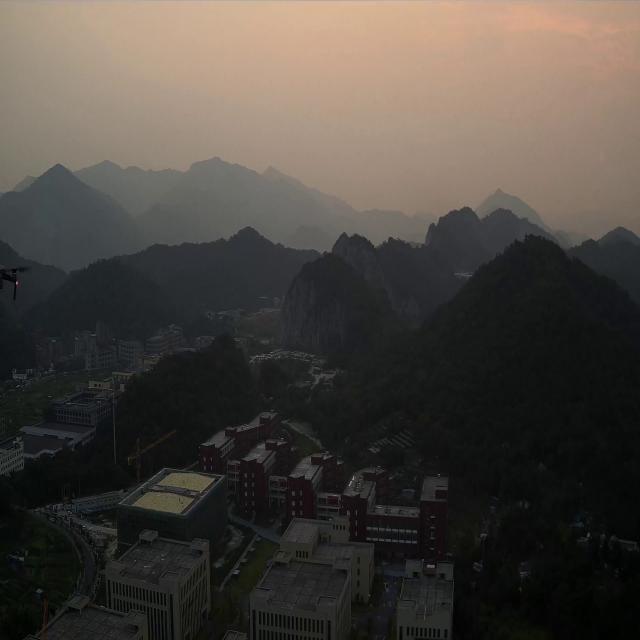UAV: (0, 260, 33, 304)
